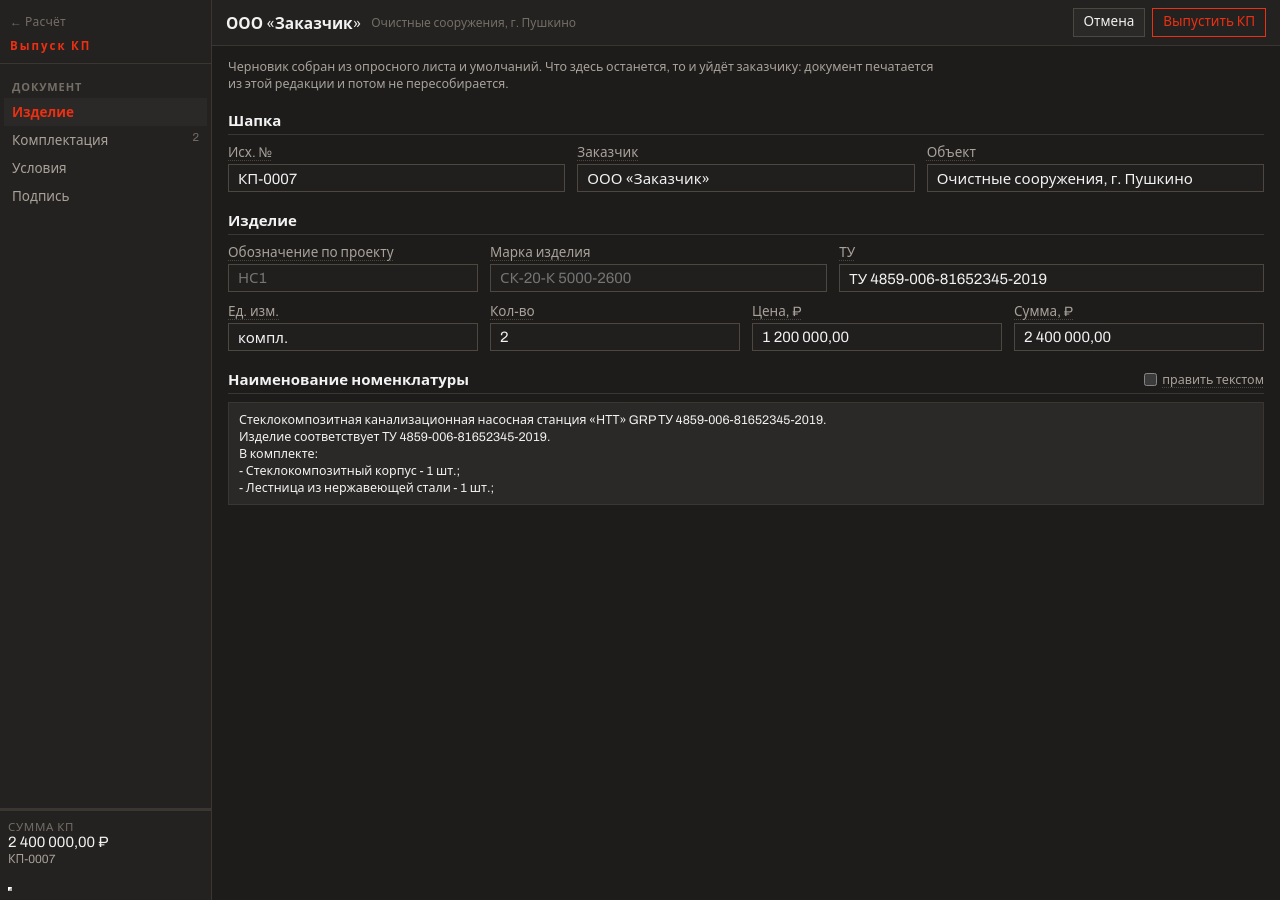
Test: экран выпуска КП › состав — список позиций: наименование многострочным полем, количество и единица рядом
Click the button with class "nav-link" showing "Комплектация 2" at [106, 140], box [4,126,207,154]
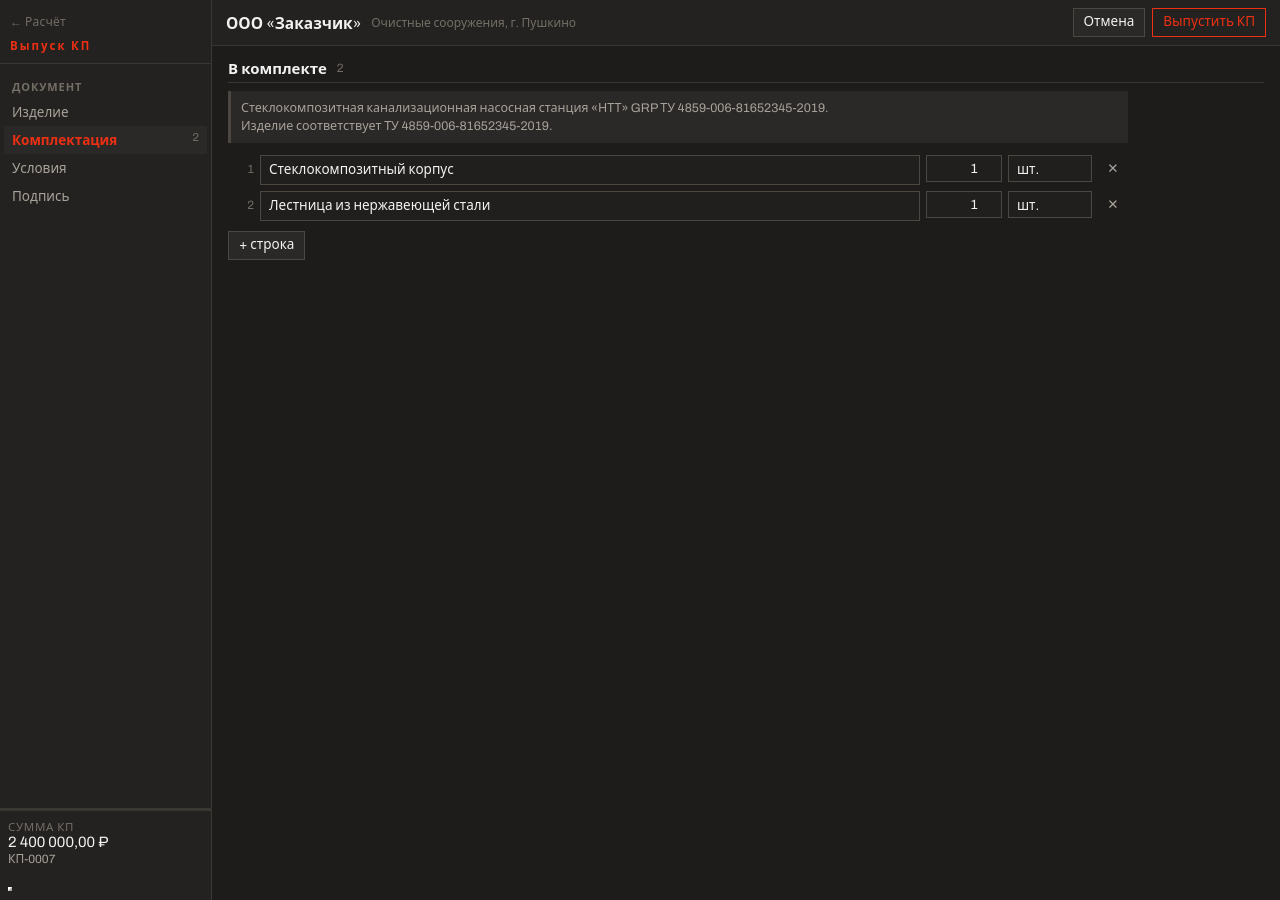
Expected: the number of list items with class "kit-row" is 2, [228,155,1128,185]; [228,191,1128,221]
Expected: the 1st text box with class "kit-name" holds "Стеклокомпозитный корпус", [260,155,920,185]
Expected: the 1st number field with class "kit-qty" holds "1", [926,155,1002,182]
